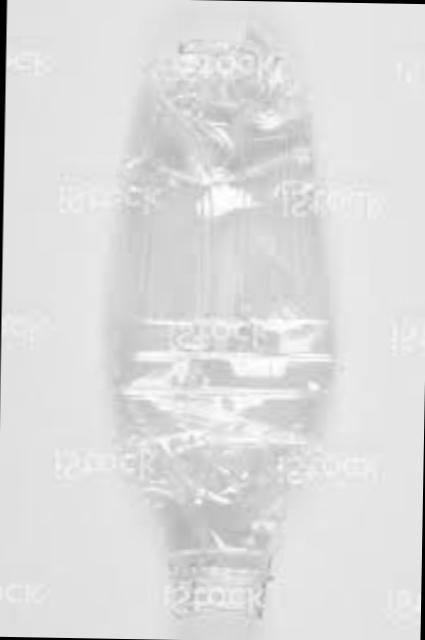plastic: (110, 27, 342, 625)
